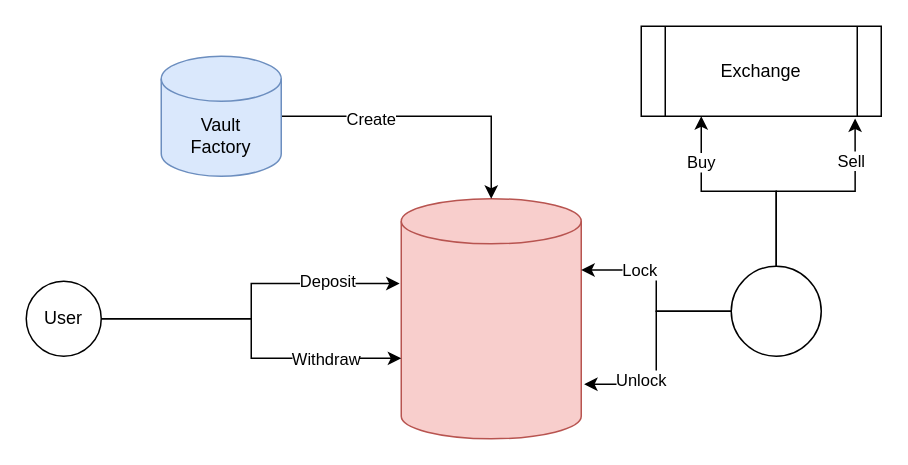
Image size: 908x465. Some labels were removed from this diagram. Here are the shapes that lost their labels. From the top down, the centre of each, then its label:
At [490,318]: "Vault".
At [775,310]: "Trading bot".
